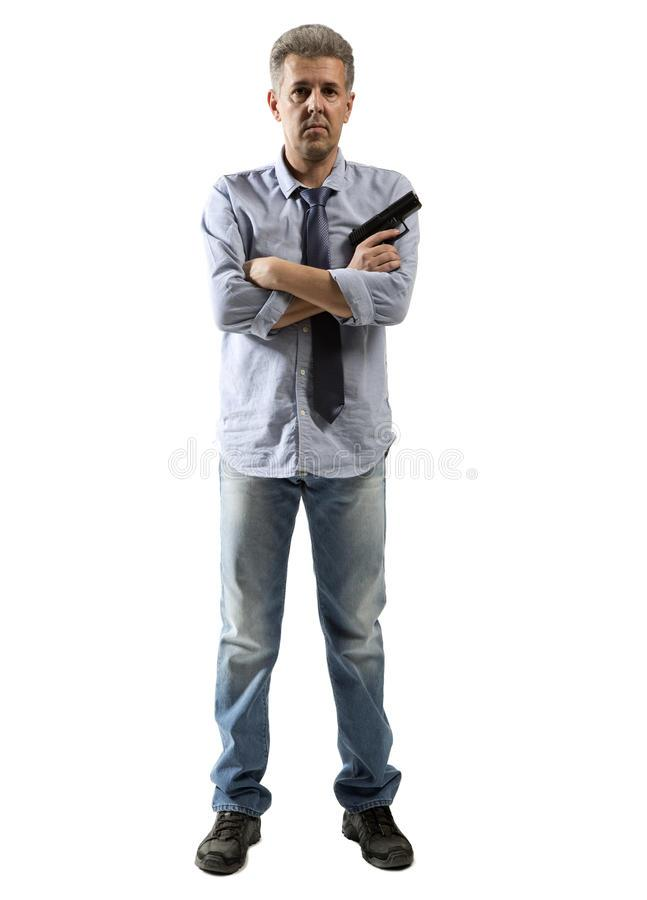criminal: (187, 16, 432, 879)
weapon: (335, 184, 424, 287)
